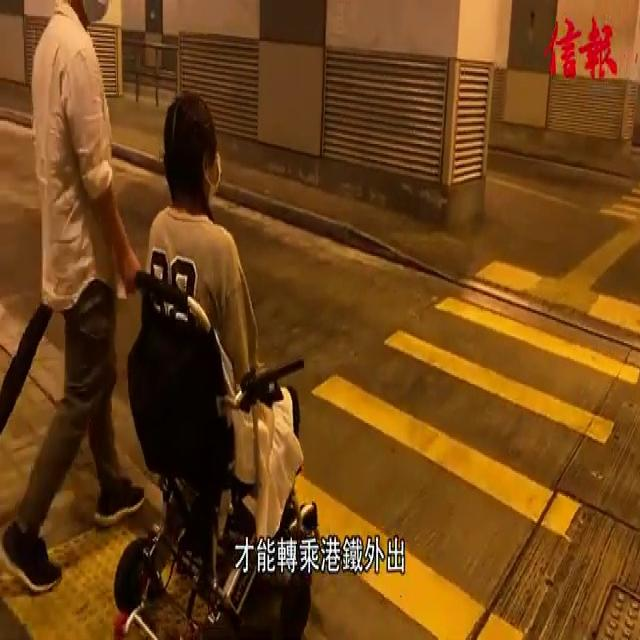wheelchairs: (108, 259, 323, 640)
